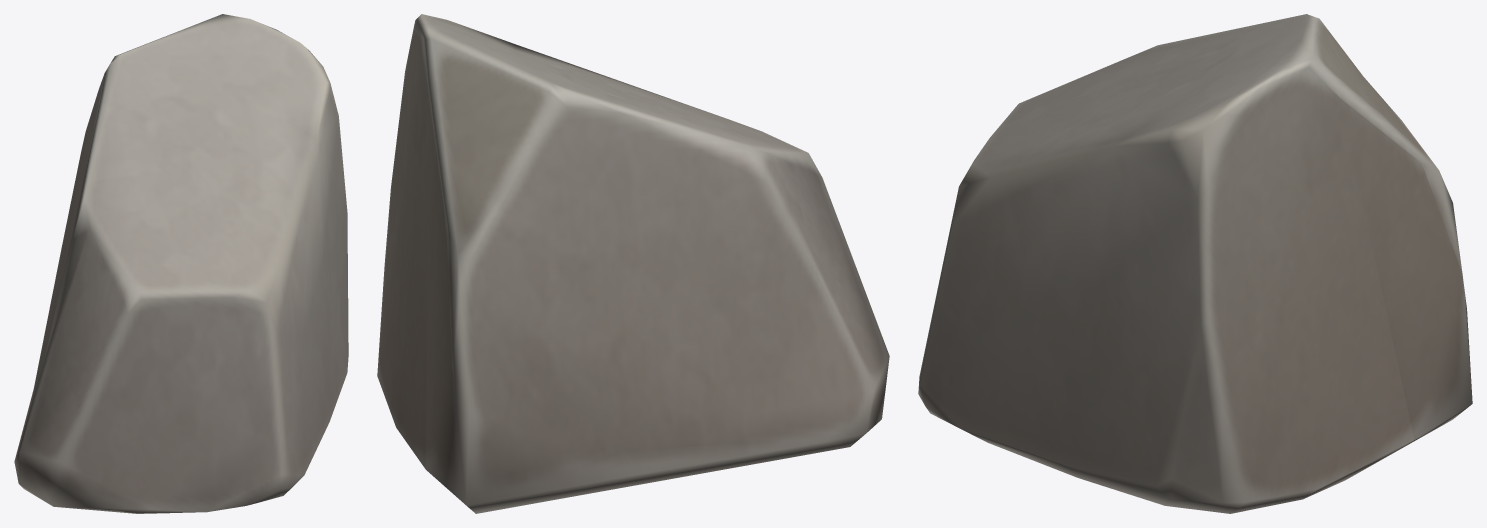
Rendered from rocks_02.glb.
3 views of the same model, side by side, from view 1: azimuth 30°, elevation 25°; view 2: azimuth 150°, elevation 25°; view 3: azimuth 270°, elevation 25° (orthographic). The views are drawn at different scales.
Visible parts, largest first — view 1: SM_Rocks_02_RocksStylized_M_0; view 2: SM_Rocks_02_RocksStylized_M_0; view 3: SM_Rocks_02_RocksStylized_M_0.
Part boxes in pixels (x1,y1,x2,y2): SM_Rocks_02_RocksStylized_M_0: [14, 14, 348, 513]; SM_Rocks_02_RocksStylized_M_0: [377, 14, 889, 513]; SM_Rocks_02_RocksStylized_M_0: [918, 14, 1472, 513].
Bounding box in the file's own units: 6.17 × 5.59 × 6.6.
1 material, 1 textured.
